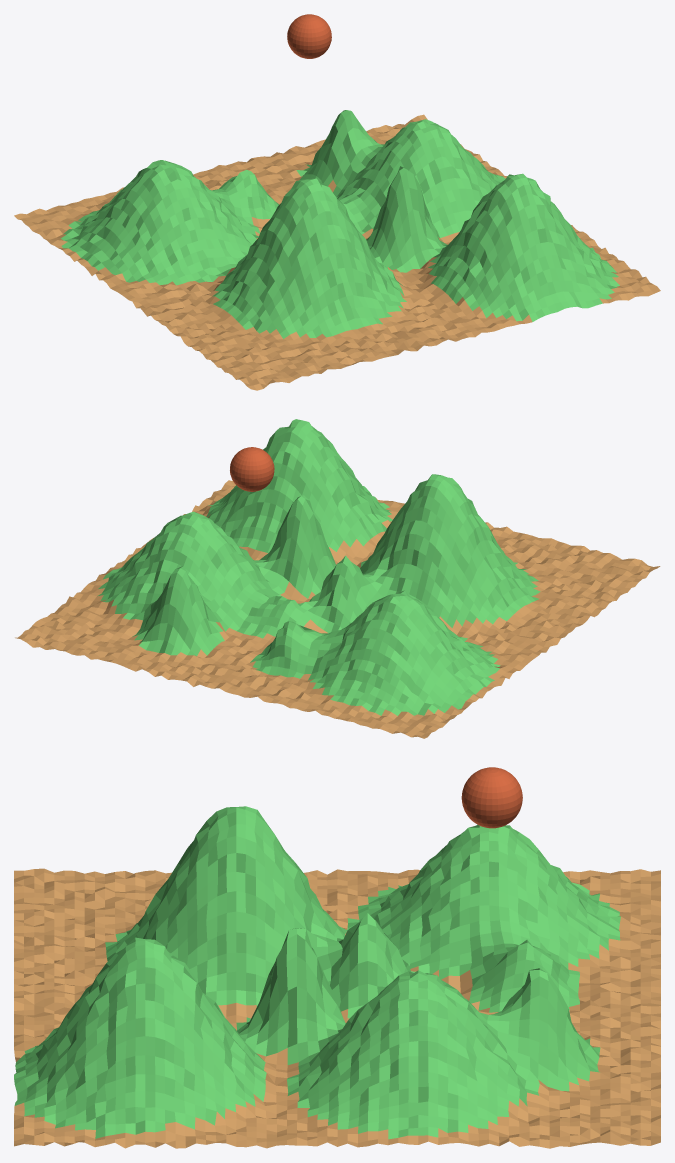
Rendered from terrain.gltf.
The picture shows the model from 3 angles, top to bottom: view 1: azimuth 30°, elevation 25°; view 2: azimuth 150°, elevation 25°; view 3: azimuth 270°, elevation 25°; orthographic projection. The views are drawn at different scales.
Visible parts, largest first — view 1: Cube, Sphere; view 2: Cube, Sphere; view 3: Cube, Sphere.
Boxes of the visible parts, box(x1,y1,x2,y2) form: Cube: box(14, 110, 660, 390); Sphere: box(287, 14, 331, 58); Cube: box(15, 419, 660, 738); Sphere: box(230, 447, 274, 491); Cube: box(14, 806, 660, 1148); Sphere: box(461, 767, 522, 828).
Bounding box in the file's own units: 9.94 × 4.45 × 9.94.
